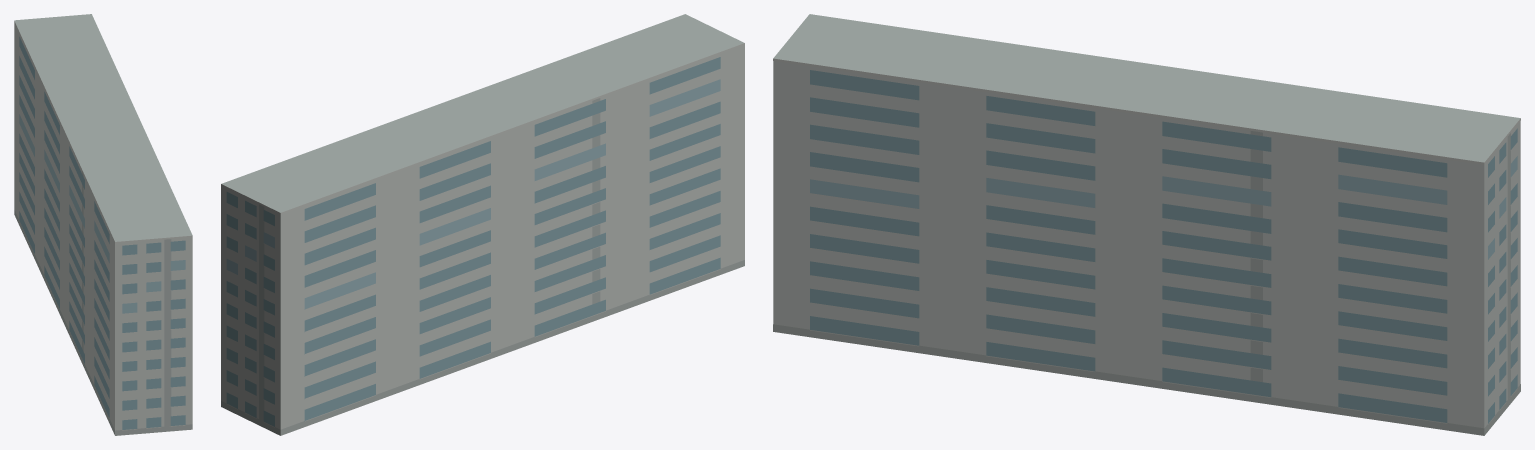
Rendered from residential-cf978d0c-3845-4fac-b3d6-c2d109766de4.glb.
3 views of the same model, side by side, from view 1: azimuth 30°, elevation 25°; view 2: azimuth 150°, elevation 25°; view 3: azimuth 270°, elevation 25° (orthographic). The views are drawn at different scales.
Parts seen in each view (by area): view 1: residential-cf978d0c-3845-4fac-b3d6-c2d109766de4.tmp; view 2: residential-cf978d0c-3845-4fac-b3d6-c2d109766de4.tmp; view 3: residential-cf978d0c-3845-4fac-b3d6-c2d109766de4.tmp.
Boxes of the visible parts, <box> form: residential-cf978d0c-3845-4fac-b3d6-c2d109766de4.tmp: <box>14,14,192,435</box>; residential-cf978d0c-3845-4fac-b3d6-c2d109766de4.tmp: <box>221,14,744,435</box>; residential-cf978d0c-3845-4fac-b3d6-c2d109766de4.tmp: <box>773,14,1520,435</box>.
Bounding box in the file's own units: 32.65 × 28 × 69.42.
